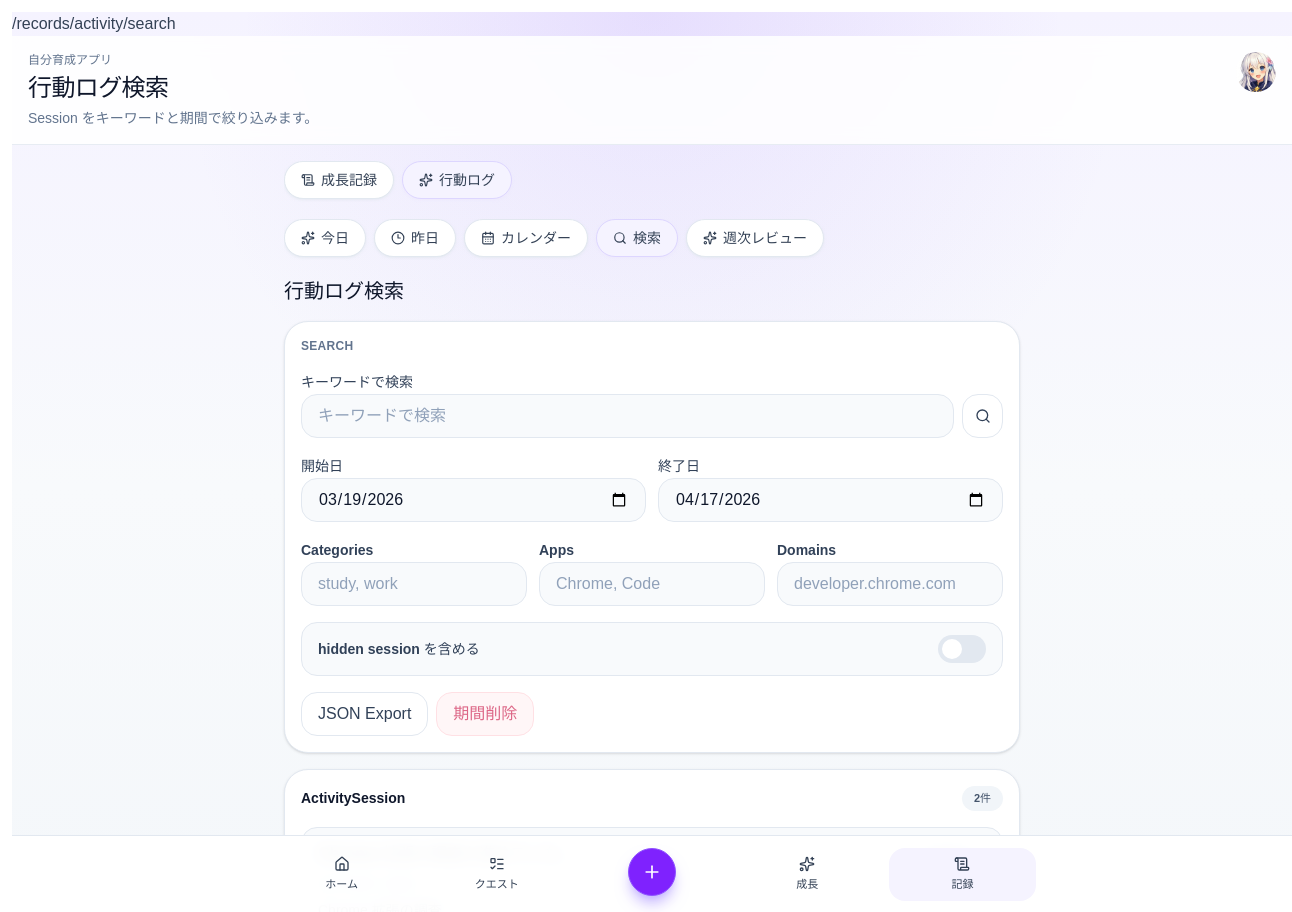
Test: activity log routes › opens the JST previous-day screen from the shared activity nav on the search screen
Click the link "昨日" at (415, 238), box left=374, top=219, right=456, bottom=257
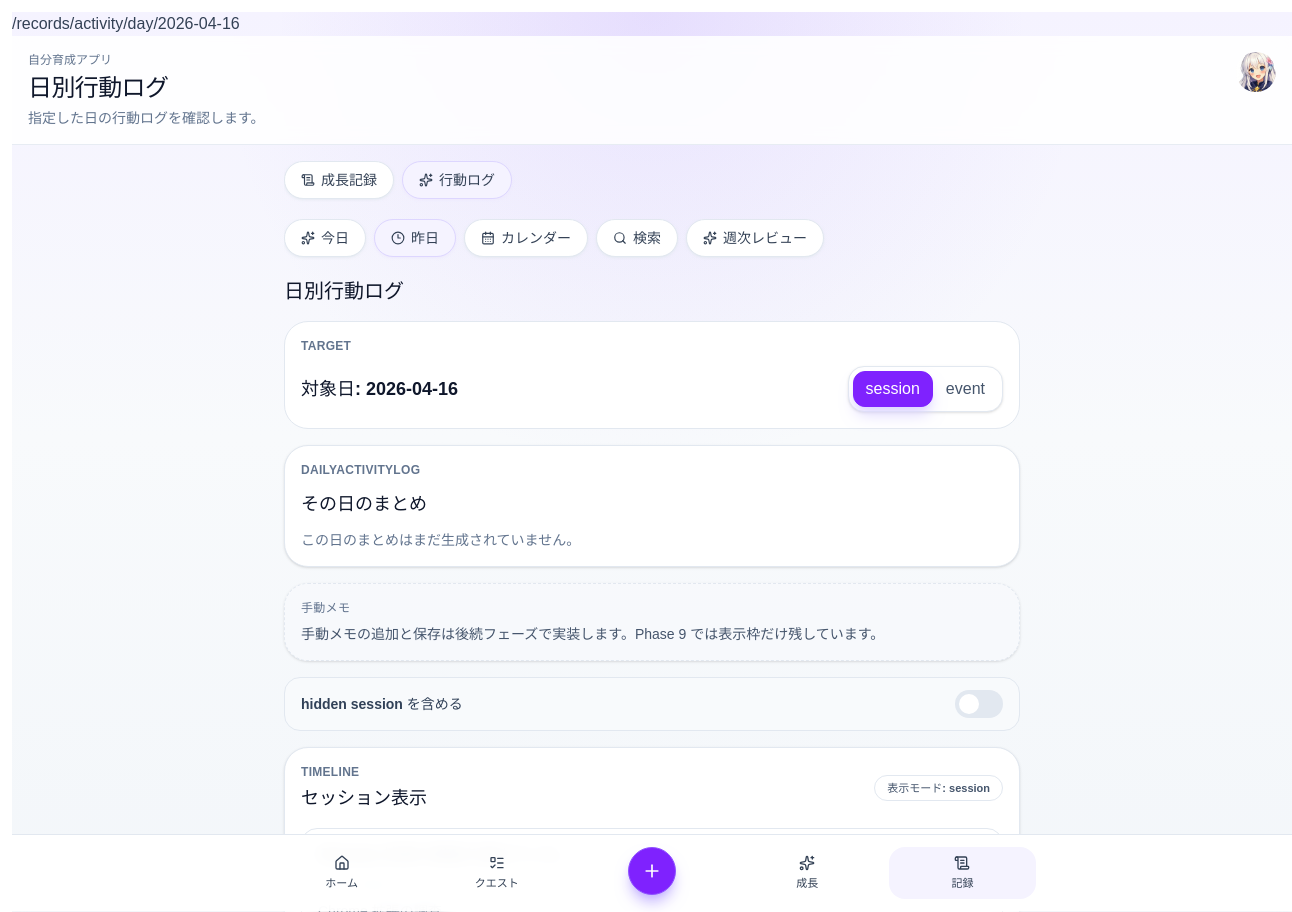
Expected: the text with test id "location" reads "/records/activity/day/2026-04-16", left=12, top=15, right=240, bottom=32
